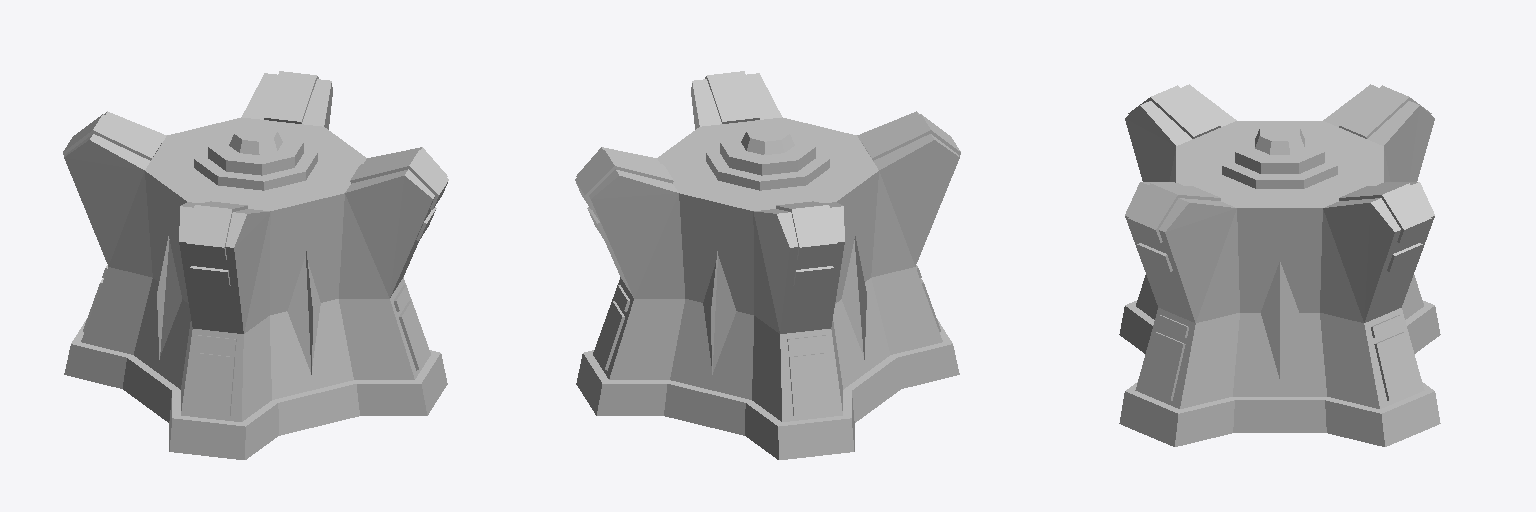
File: MageTower_Lvl3.obj
The picture shows the model from 3 angles: view 1: azimuth 30°, elevation 25°; view 2: azimuth 150°, elevation 25°; view 3: azimuth 270°, elevation 25°; orthographic projection.
Parts seen in each view (by area): view 1: TB_MageTower_Lvl3; view 2: TB_MageTower_Lvl3; view 3: TB_MageTower_Lvl3.
Boxes of the visible parts, <box> form: TB_MageTower_Lvl3: <box>63,71,448,459</box>; TB_MageTower_Lvl3: <box>575,71,960,459</box>; TB_MageTower_Lvl3: <box>1119,84,1440,446</box>.
Size of the model in its own units: 7.48 by 6.34 by 7.48.